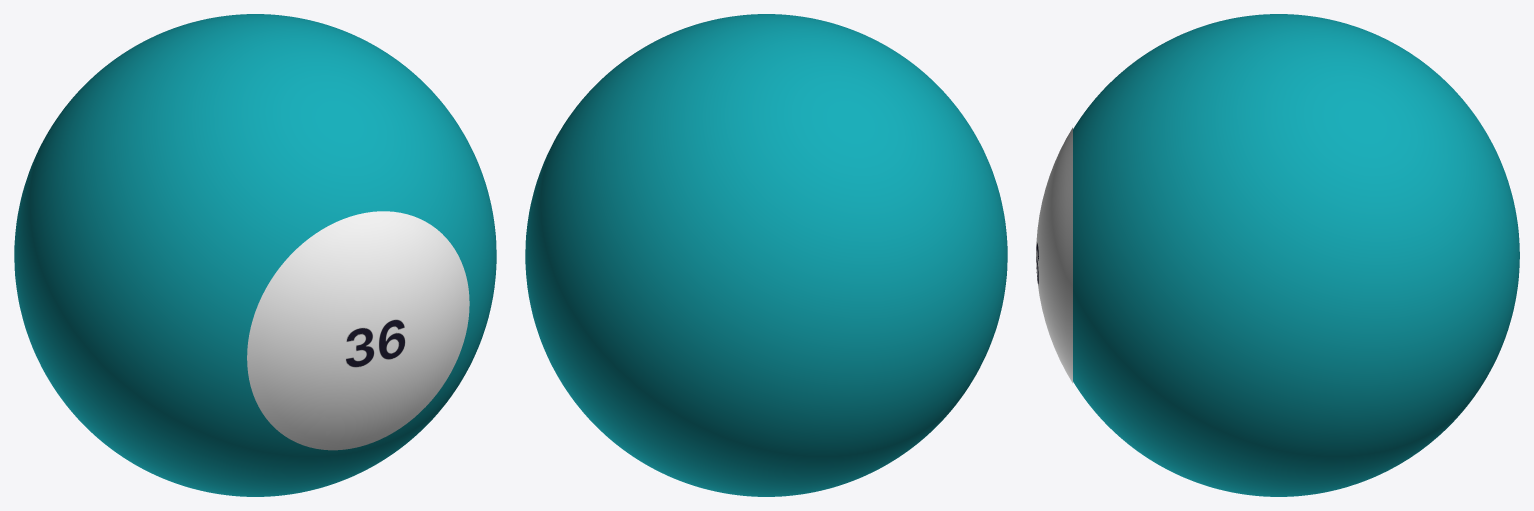
File: ball-36.glb
3 renders of one model, left to right at view 1: azimuth 30°, elevation 25°; view 2: azimuth 150°, elevation 25°; view 3: azimuth 270°, elevation 25°, orthographic.
Parts seen in each view (by area): view 1: Ball_36_Shell, Ball_36_Number_Disc; view 2: Ball_36_Shell; view 3: Ball_36_Shell, Ball_36_Number_Disc.
Boxes of the visible parts, left/top/right/bottom form: Ball_36_Shell: left=14, top=14, right=496, bottom=496; Ball_36_Number_Disc: left=247, top=211, right=469, bottom=450; Ball_36_Shell: left=525, top=14, right=1007, bottom=496; Ball_36_Shell: left=1073, top=14, right=1519, bottom=496; Ball_36_Number_Disc: left=1036, top=127, right=1072, bottom=383.
Size of the model in its own units: 1.84 by 1.84 by 1.84.
Materials: 2 (1 with a texture image).
